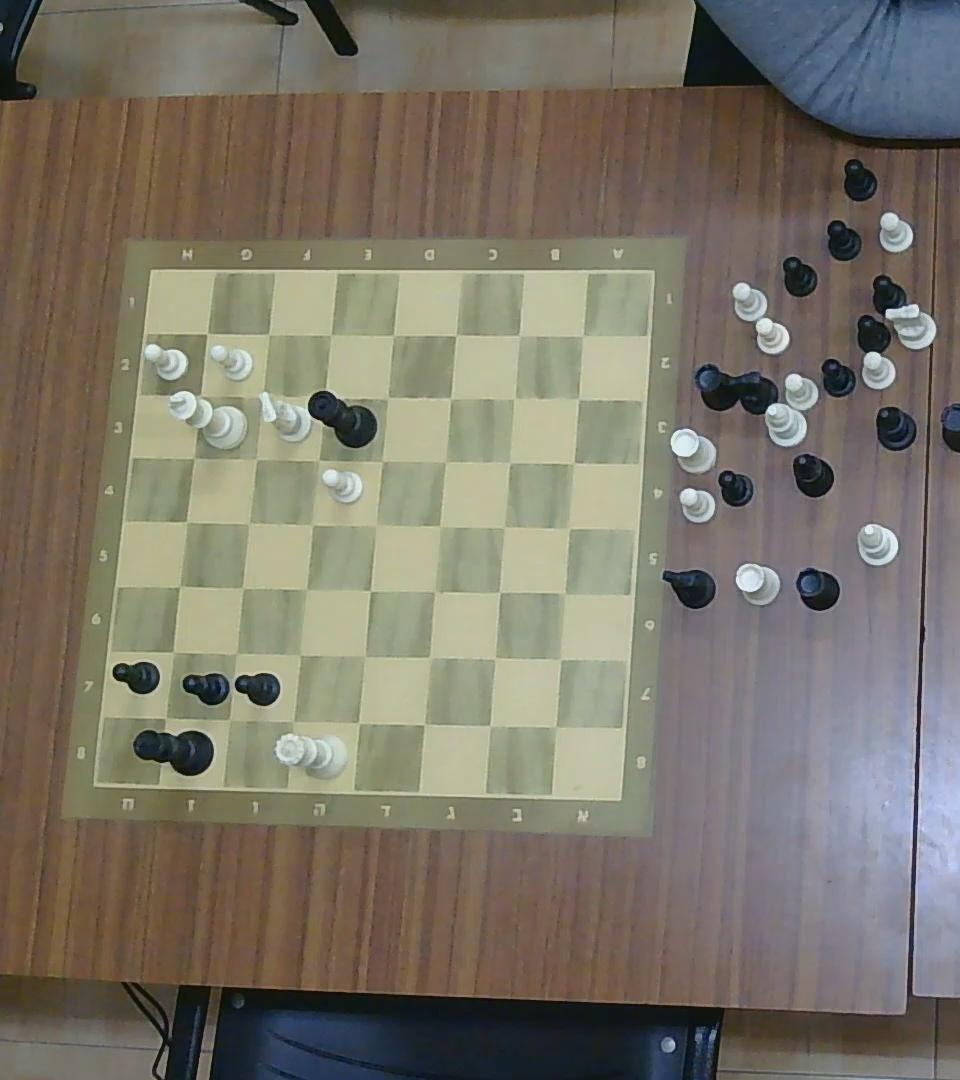xcorner: (477, 712, 503, 738), (246, 383, 272, 409), (542, 714, 569, 739), (412, 711, 437, 736), (482, 647, 506, 671), (418, 644, 442, 668), (347, 710, 371, 734), (353, 644, 376, 668), (281, 709, 305, 731), (154, 706, 178, 728), (288, 643, 311, 665), (439, 387, 461, 408), (371, 449, 392, 471), (218, 708, 240, 729), (549, 648, 571, 668), (188, 386, 210, 406), (366, 514, 386, 535), (423, 581, 443, 602), (225, 642, 245, 663), (499, 450, 519, 471), (320, 324, 339, 346), (183, 447, 203, 467), (488, 582, 508, 602), (445, 325, 465, 345), (559, 518, 579, 538), (435, 450, 454, 471), (296, 578, 315, 599), (170, 576, 189, 597), (302, 514, 321, 534), (378, 388, 397, 408), (429, 516, 448, 536), (555, 582, 574, 602), (177, 511, 196, 531), (259, 324, 278, 344), (382, 325, 401, 345), (315, 386, 334, 406), (248, 448, 266, 469), (198, 324, 217, 343), (164, 643, 183, 662), (495, 516, 513, 536), (309, 450, 327, 470), (240, 513, 258, 532), (505, 388, 523, 407), (361, 581, 380, 599), (564, 453, 583, 471), (233, 579, 251, 598), (573, 326, 591, 345), (511, 327, 528, 344), (572, 390, 587, 405)
